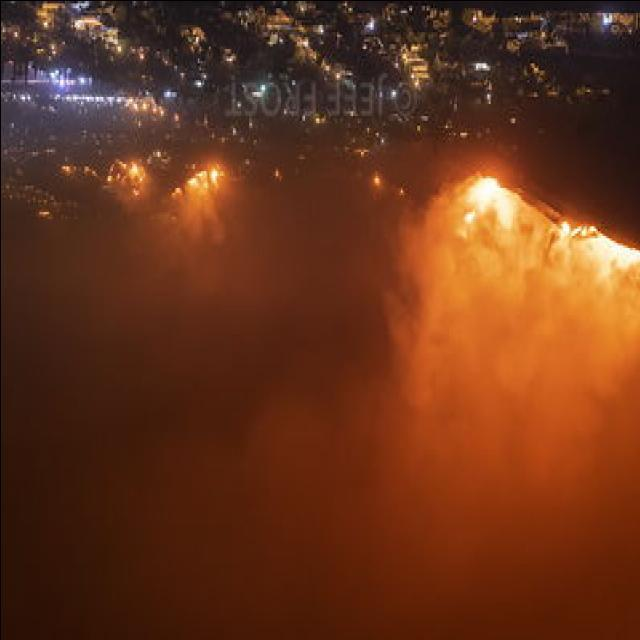Fire: (409, 168, 636, 312), (102, 156, 228, 218)
